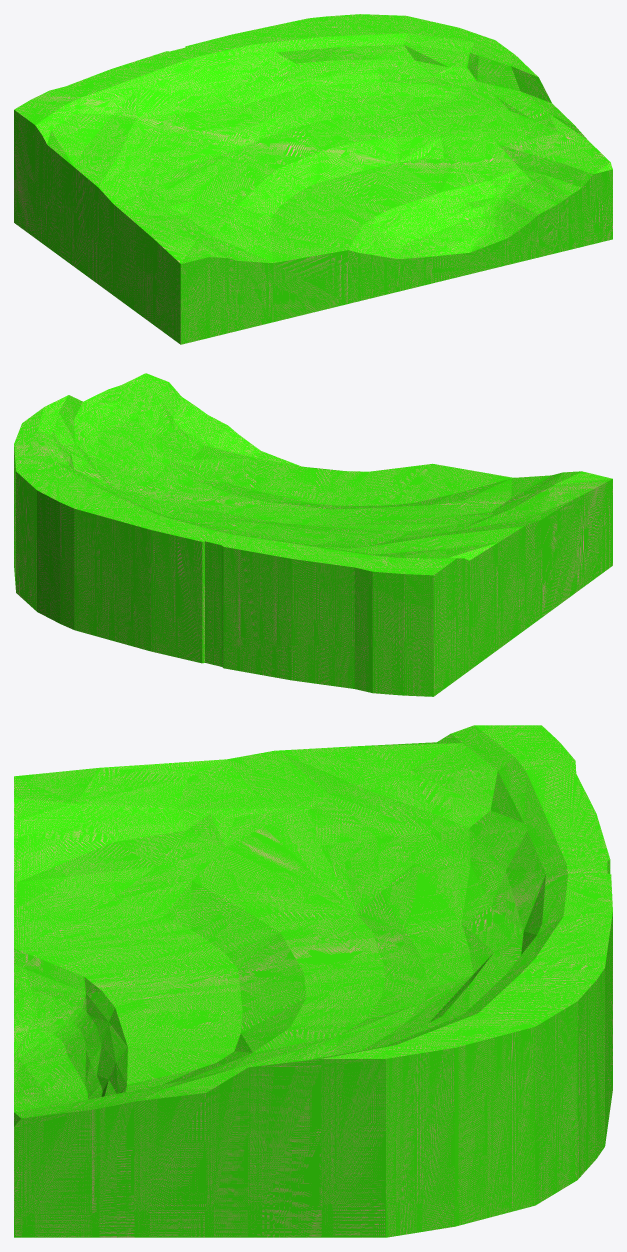
3 views of the same model, one above another, from view 1: azimuth 30°, elevation 25°; view 2: azimuth 150°, elevation 25°; view 3: azimuth 270°, elevation 25° (orthographic). The views are drawn at different scales.
Visible parts, largest first — view 1: SketchUp; view 2: SketchUp; view 3: SketchUp.
Part boxes in pixels (<box>): SketchUp: <box>14,14,612,344</box>; SketchUp: <box>14,373,612,696</box>; SketchUp: <box>14,725,612,1237</box>.
Size of the model in its own units: 3306 by 2509 by 827.
